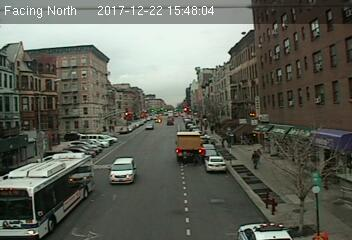bus: (1, 151, 97, 239)
car: (108, 156, 137, 184), (205, 156, 227, 172)
police: (236, 219, 288, 240)
truck: (174, 130, 202, 163)
